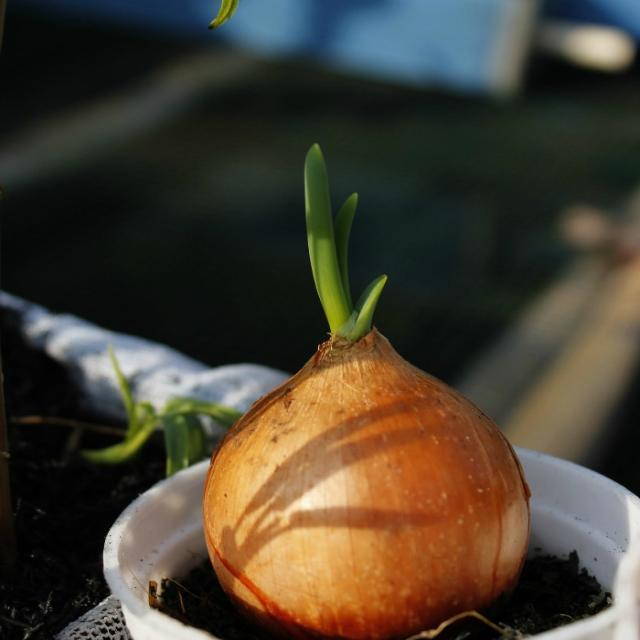onion: (192, 320, 540, 638)
